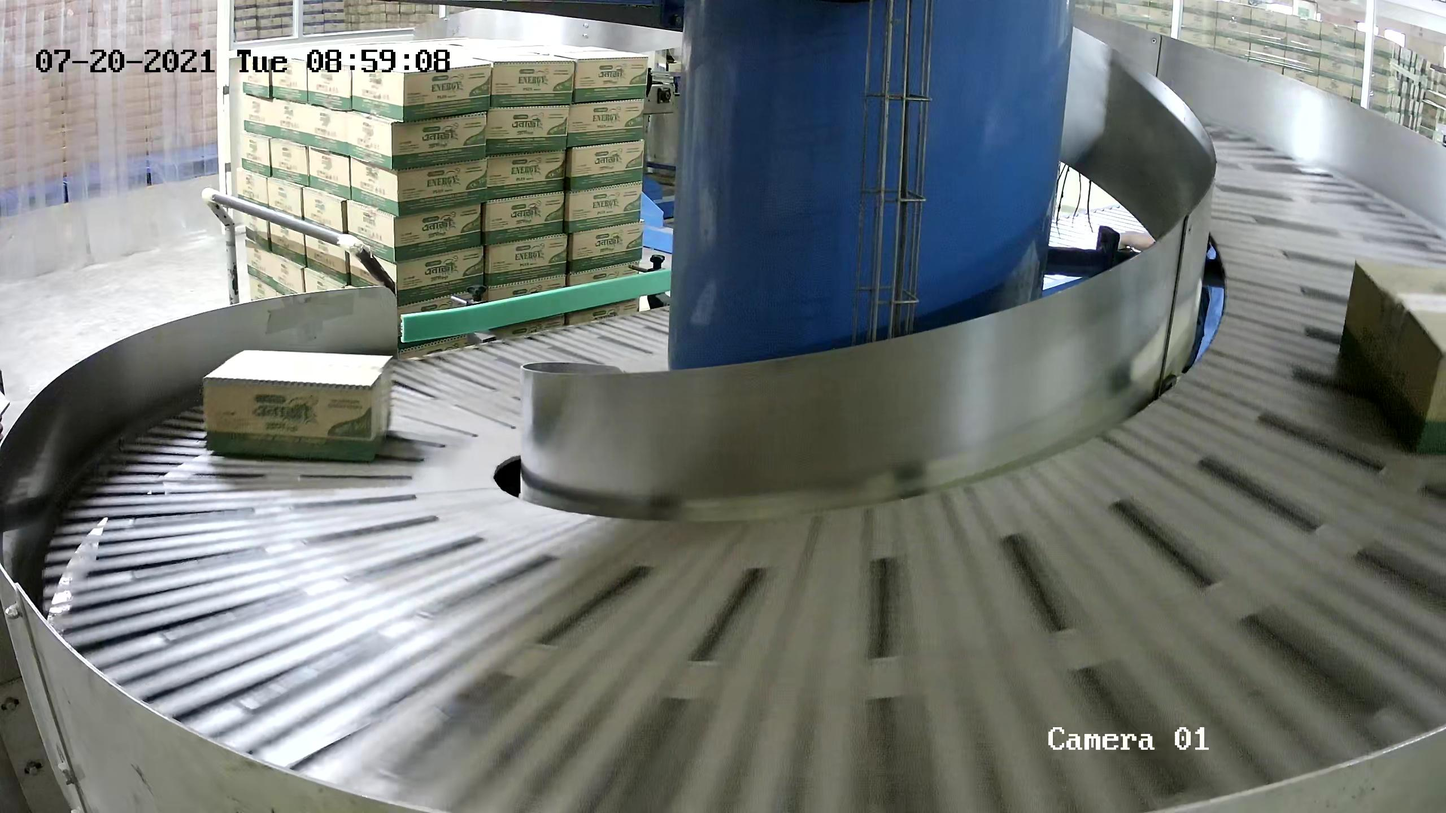Box: (201, 349, 394, 463), (1338, 255, 1446, 456)
